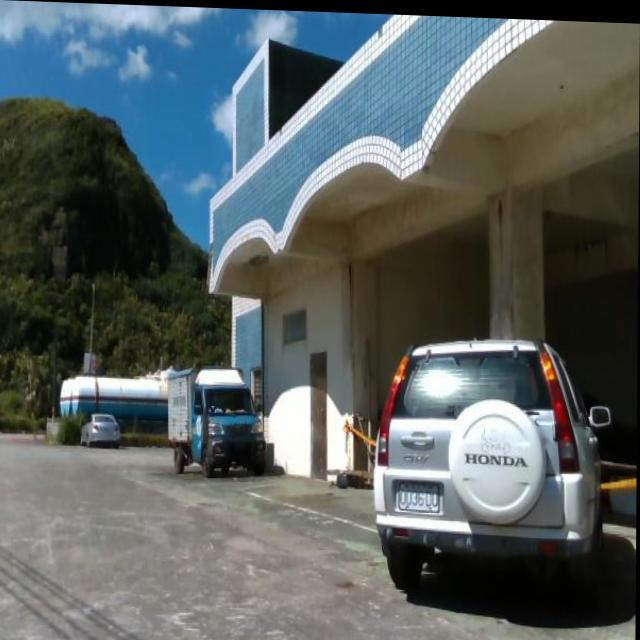pollute: (330, 465, 374, 490)
